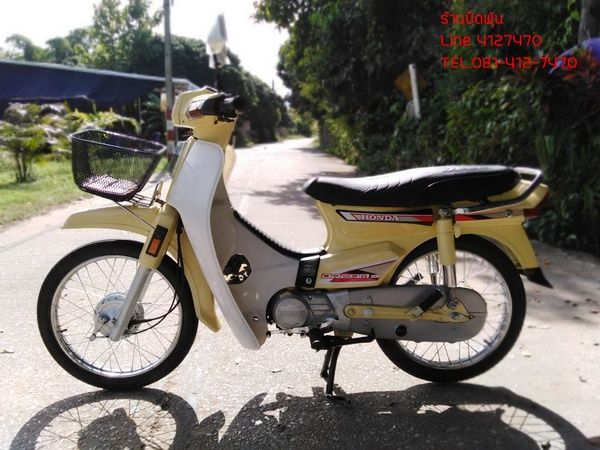motorcycle: (37, 81, 554, 395)
